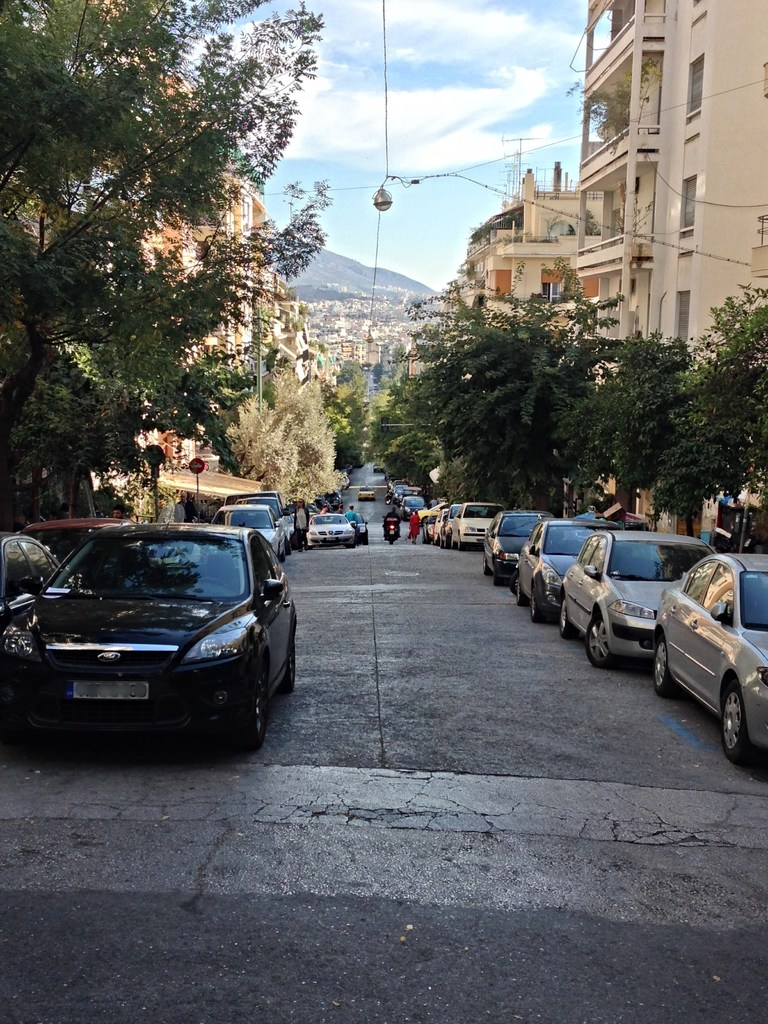cars: (0, 459, 767, 770), (0, 519, 288, 750), (657, 551, 767, 761), (560, 540, 714, 660), (511, 523, 635, 625), (206, 499, 282, 561), (482, 510, 549, 578), (418, 500, 504, 542), (305, 516, 353, 550)
